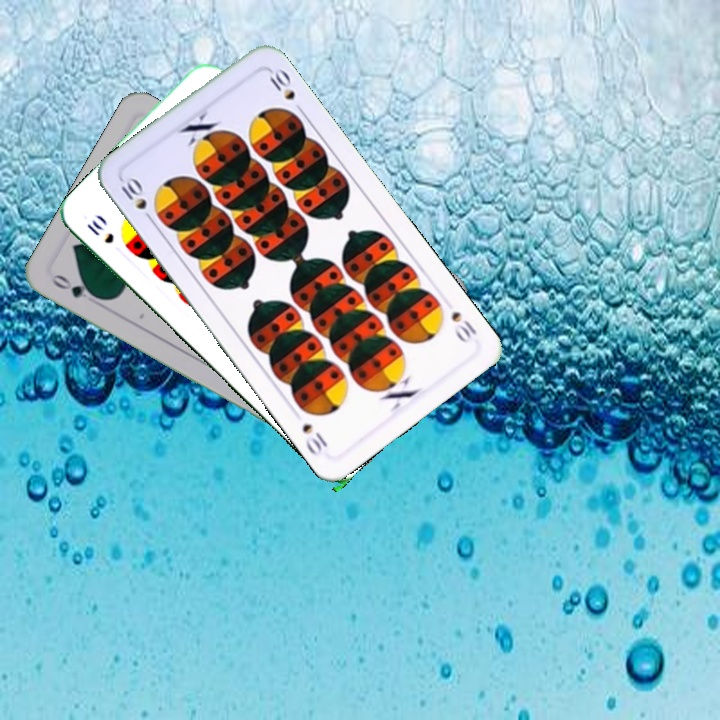GO: (47, 270, 103, 302)
S10: (116, 173, 157, 226), (447, 307, 480, 346), (82, 215, 117, 246)
